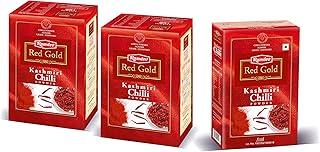Chilli Powder: (101, 10, 194, 146), (7, 2, 95, 132), (212, 21, 300, 149)
